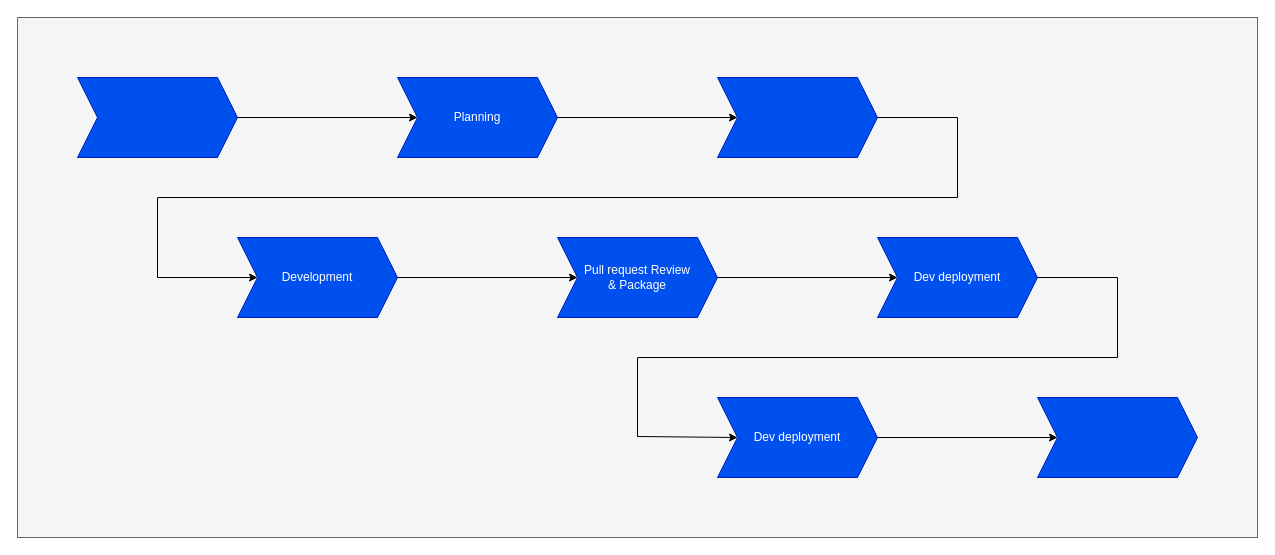
This 1275x555 diagram has some shape labels left out. The box of each missing label's shape, as (x1, y1, x2, y2) in pixels:
Handover to project: (1036, 396, 1198, 478)
Pseudo code: (716, 76, 878, 158)
Requirement gathering: (76, 76, 238, 158)
